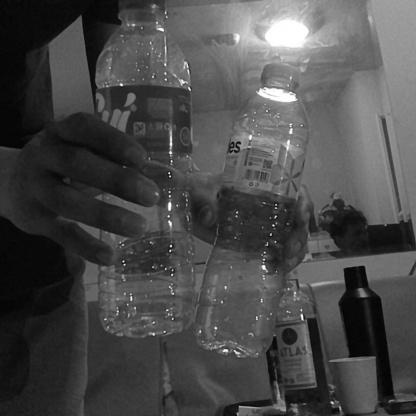plastic_bottles: (96, 0, 198, 337), (196, 64, 312, 359)
